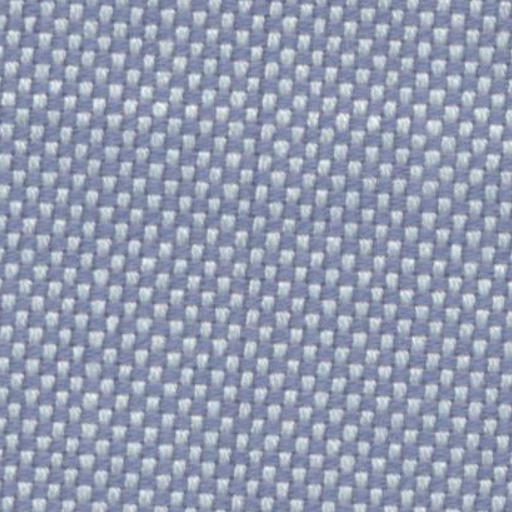TuoSha: (216, 34, 272, 502)
